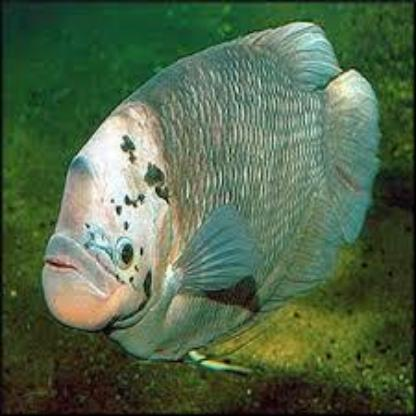gurame: (44, 22, 384, 384)
